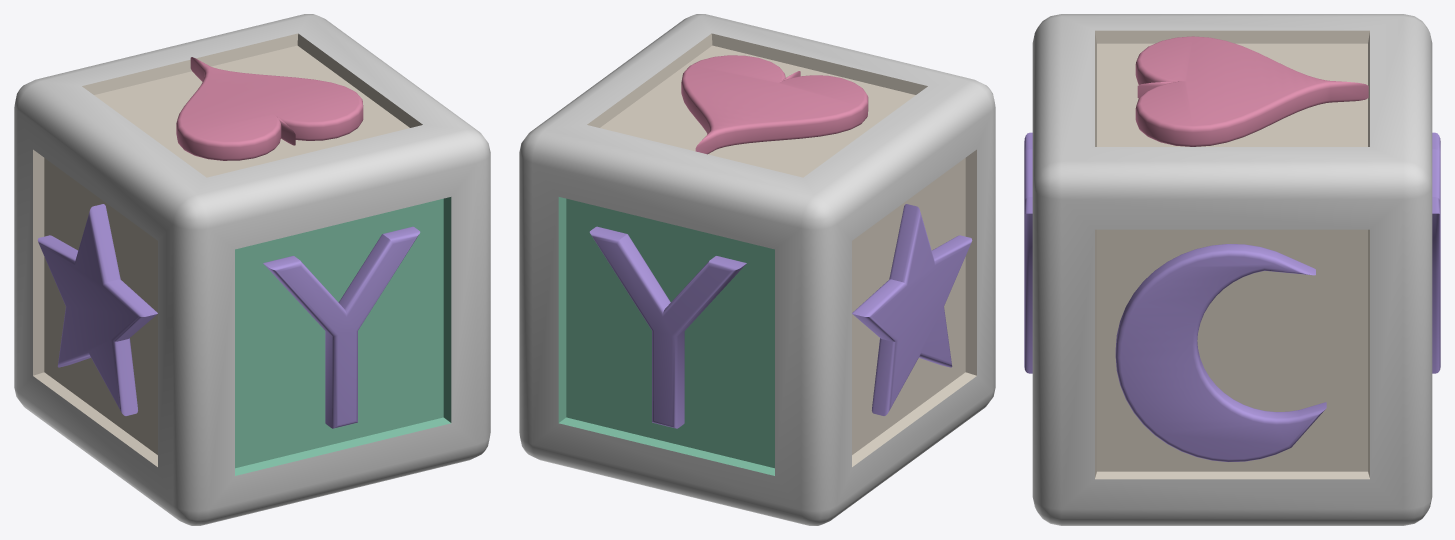
Rendered from W6_Block_Y.fbx.
3 views of the same model, side by side, from view 1: azimuth 30°, elevation 25°; view 2: azimuth 150°, elevation 25°; view 3: azimuth 270°, elevation 25° (orthographic). The views are drawn at different scales.
Visible parts, largest first — view 1: W6_Block_Y; view 2: W6_Block_Y; view 3: W6_Block_Y.
Part boxes in pixels (box(x1,y1,x2,y2)): W6_Block_Y: box(14, 14, 490, 525); W6_Block_Y: box(519, 14, 995, 525); W6_Block_Y: box(1024, 14, 1440, 525).
Bounding box in the file's own units: 0.375 × 0.3675 × 0.375.
